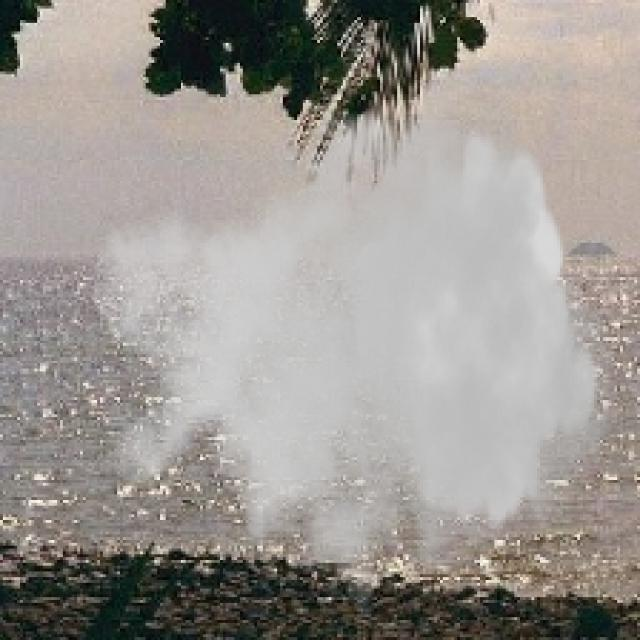Smoke: (88, 77, 618, 637)
